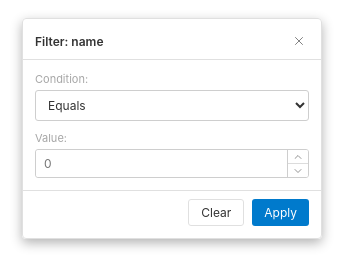
Test: FilterPopup › custom numeric input (number columns) › increase chevron button increments value
The width and height of the screenshot is (345, 266).
Select "Equals" in the dropdown: (172, 106) [35, 90, 309, 121]
In the field with placeholder "0": (162, 164) [36, 150, 287, 177], type "5"
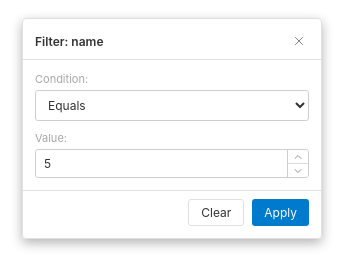
Click the button named "Increase": (298, 156) [288, 150, 308, 163]
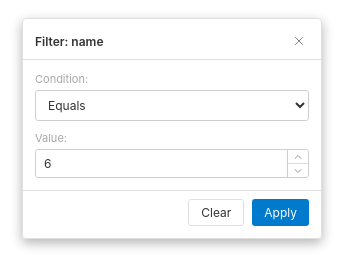
Expected: the field with placeholder "0" holds "6", [36, 150, 287, 177]
